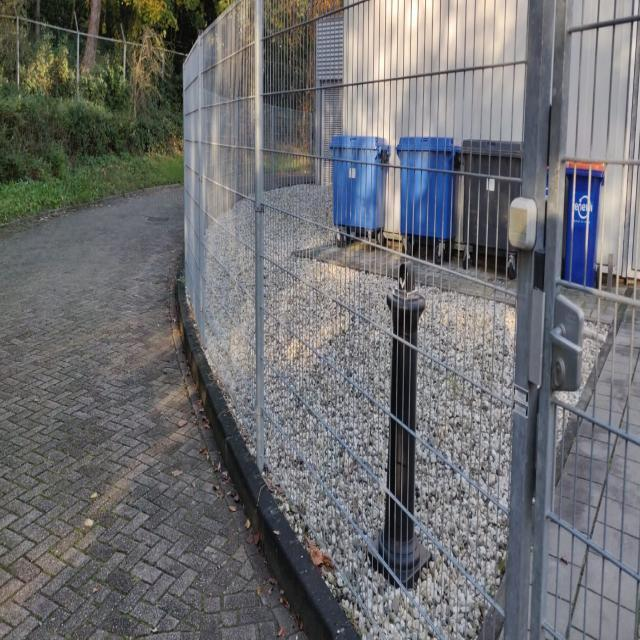fence line: (275, 33, 640, 640), (175, 18, 311, 539)
